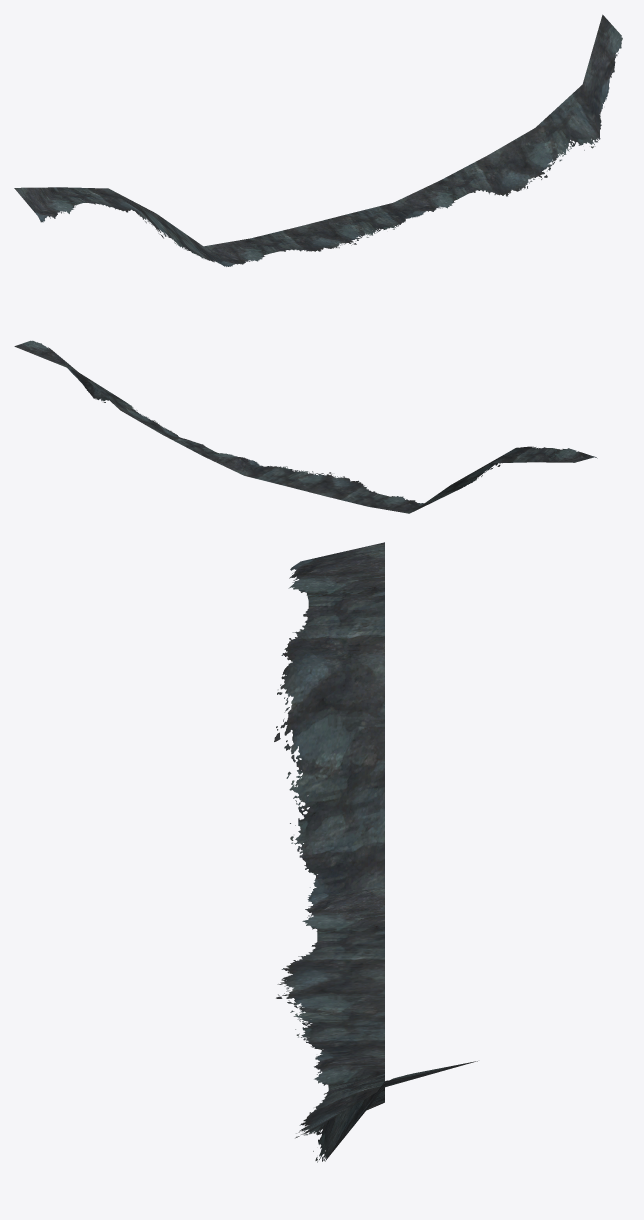
Rendered from blend_weeds21.fbx.
3 views of the same model, one above another, from view 1: azimuth 30°, elevation 25°; view 2: azimuth 150°, elevation 25°; view 3: azimuth 270°, elevation 25° (orthographic). The views are drawn at different scales.
Visible parts, largest first — view 1: New_terrain/Material_#238682132; view 2: New_terrain/Material_#238682132; view 3: New_terrain/Material_#238682132.
Boxes of the visible parts, <box> form: New_terrain/Material_#238682132: <box>14,14,622,266</box>; New_terrain/Material_#238682132: <box>14,340,597,513</box>; New_terrain/Material_#238682132: <box>274,542,477,1162</box>.
Bounding box in the file's own units: 32.5 × 5.75 × 8.3.
